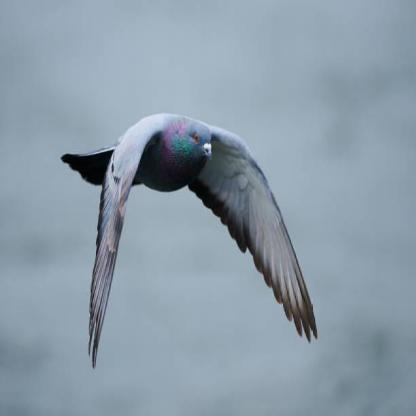Flying Rat: (50, 98, 318, 370)
